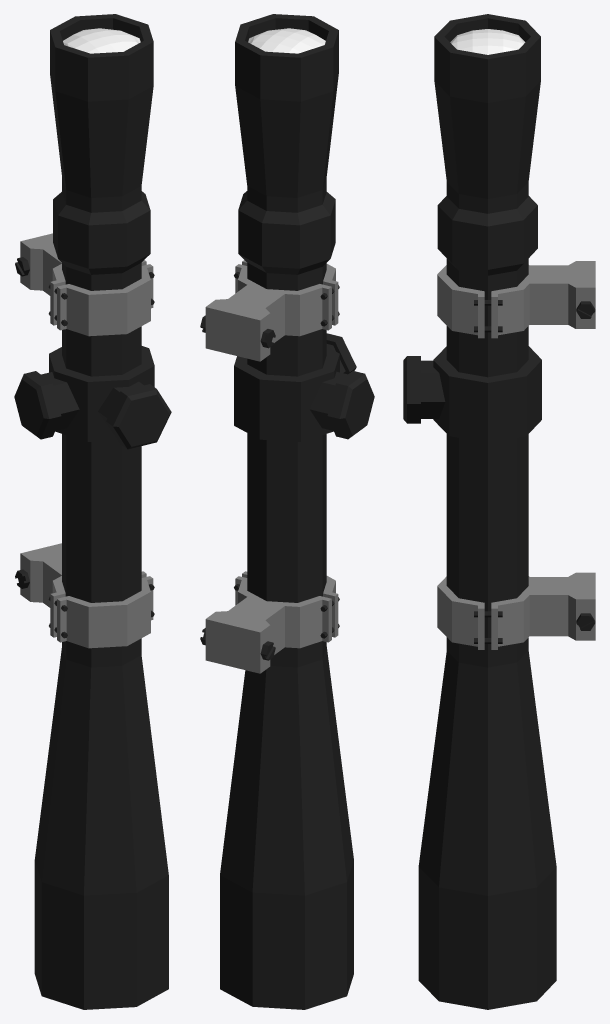
File: SniperScope.glb
The picture shows the model from 3 angles, left to right: view 1: azimuth 30°, elevation 25°; view 2: azimuth 150°, elevation 25°; view 3: azimuth 270°, elevation 25°; orthographic projection.
Visible parts, largest first — view 1: SniperScope; view 2: SniperScope; view 3: SniperScope.
Boxes of the visible parts, x1,y1,x2,y2 form: SniperScope: (14,14,171,1009); SniperScope: (200,14,374,1009); SniperScope: (403,14,595,1009).
Bounding box in the file's own units: 1.7 × 11.52 × 2.13.
Materials: 1 (1 with a texture image).
